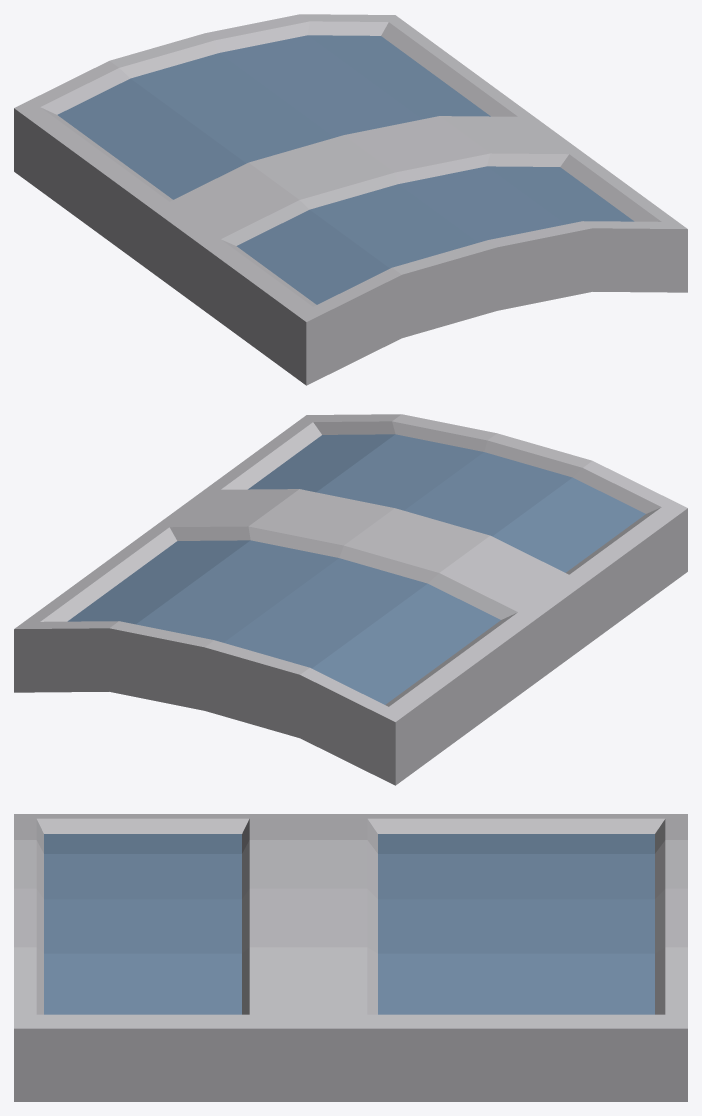
File: Mothership_02_Roof_Hatch.fbx
3 renders of one model, top to bottom at view 1: azimuth 30°, elevation 25°; view 2: azimuth 150°, elevation 25°; view 3: azimuth 270°, elevation 25°, orthographic. The views are drawn at different scales.
Parts seen in each view (by area): view 1: Mothership_02_Roof_Hatch; view 2: Mothership_02_Roof_Hatch; view 3: Mothership_02_Roof_Hatch.
Boxes of the visible parts, box(x1,y1,x2,y2) form: Mothership_02_Roof_Hatch: box(14, 14, 687, 385); Mothership_02_Roof_Hatch: box(14, 414, 687, 785); Mothership_02_Roof_Hatch: box(14, 814, 687, 1101).
Bounding box in the file's own units: 692 × 159 × 919.
2 materials, 2 textured.
